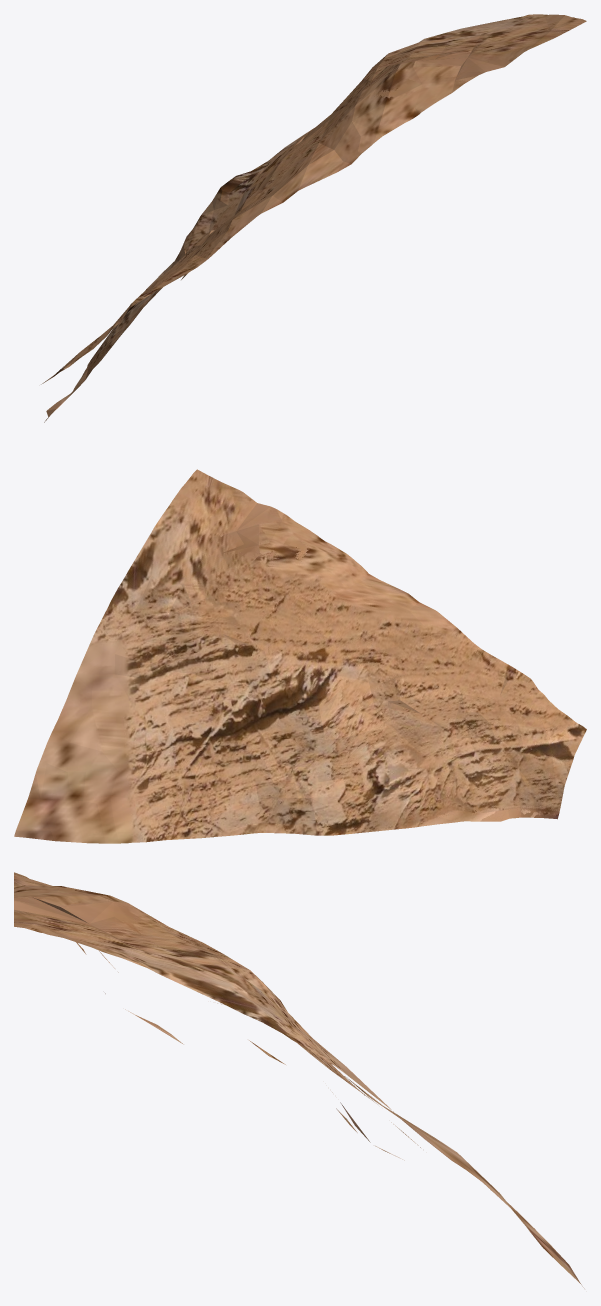
The picture shows the model from 3 angles, top to bottom: view 1: azimuth 30°, elevation 25°; view 2: azimuth 150°, elevation 25°; view 3: azimuth 270°, elevation 25°; orthographic projection. The views are drawn at different scales.
Bounding box in the file's own units: 1.04 × 0.5973 × 0.8498.
2 materials, 2 textured.
